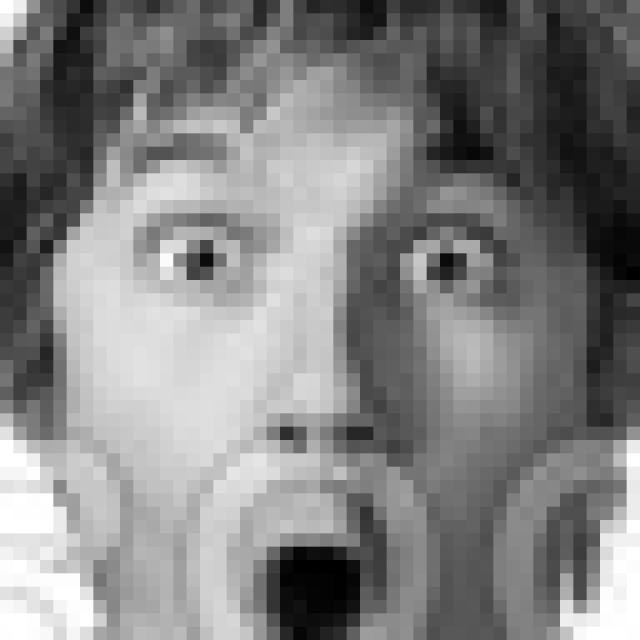surprise: (106, 124, 539, 640)
